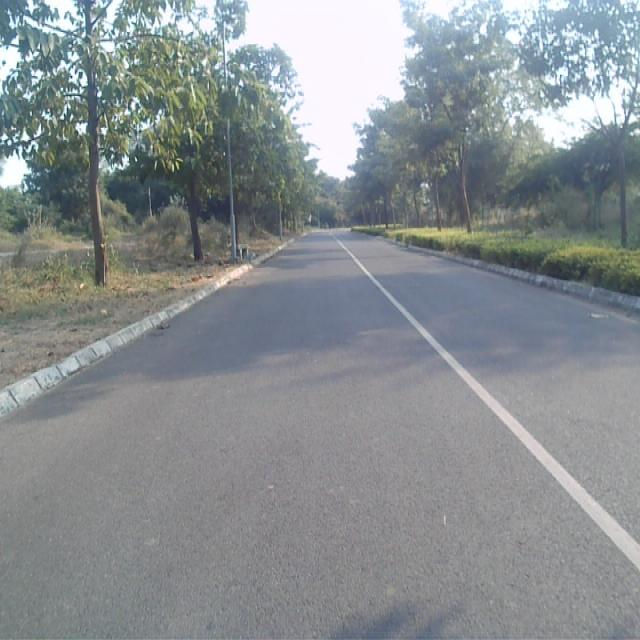lane: (0, 232, 640, 640)
